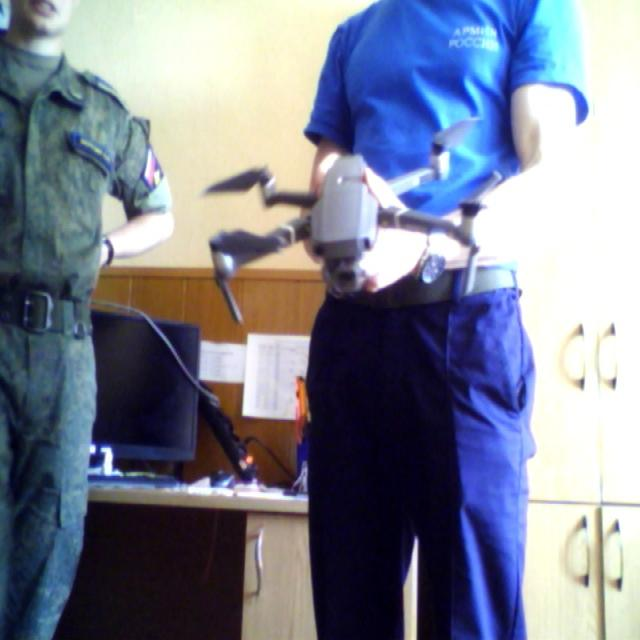drone: (204, 115, 506, 330)
